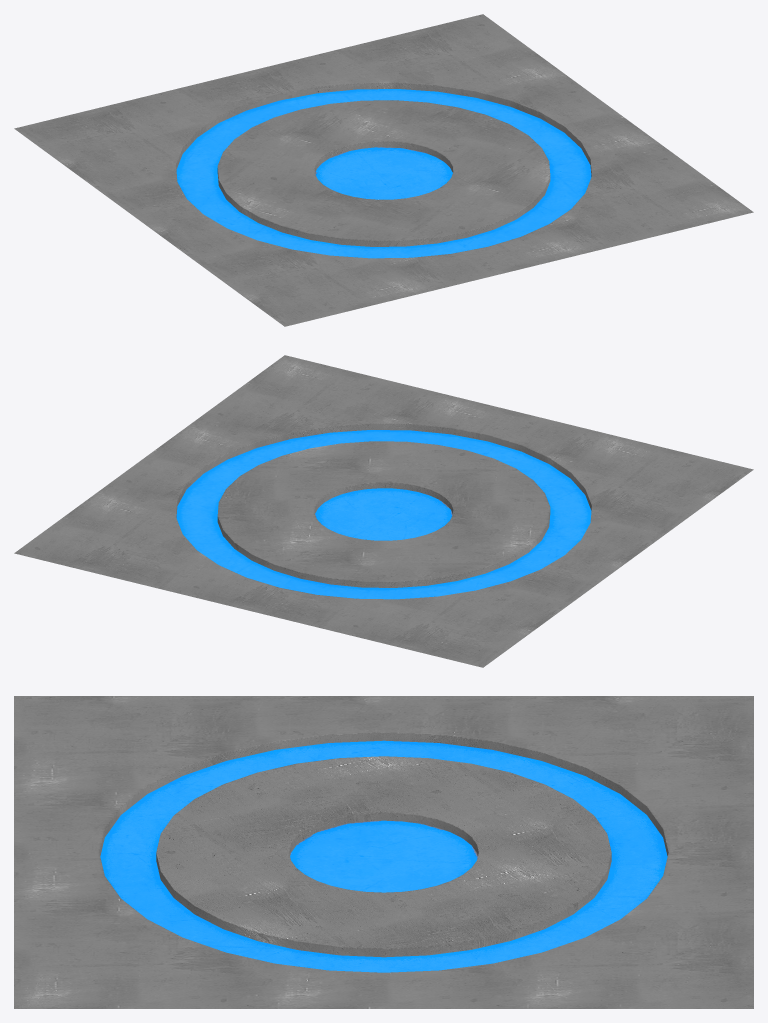
The model's file is jump.glb.
The picture shows the model from 3 angles, top to bottom: view 1: azimuth 30°, elevation 25°; view 2: azimuth 150°, elevation 25°; view 3: azimuth 270°, elevation 25°; orthographic projection. The views are drawn at different scales.
Visible parts, largest first — view 1: tile; view 2: tile; view 3: tile.
Boxes of the visible parts, <box> form: tile: <box>14,14,753,326</box>; tile: <box>14,355,753,667</box>; tile: <box>14,696,753,1008</box>.
Size of the model in its own units: 3.9 by 0.0497 by 3.9.
Materials: 1 (1 with a texture image).
